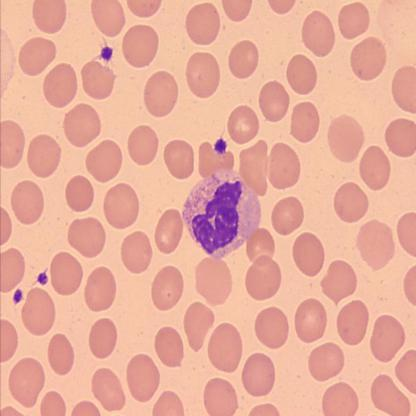Segmented neutrophil: (179, 166, 263, 262)
